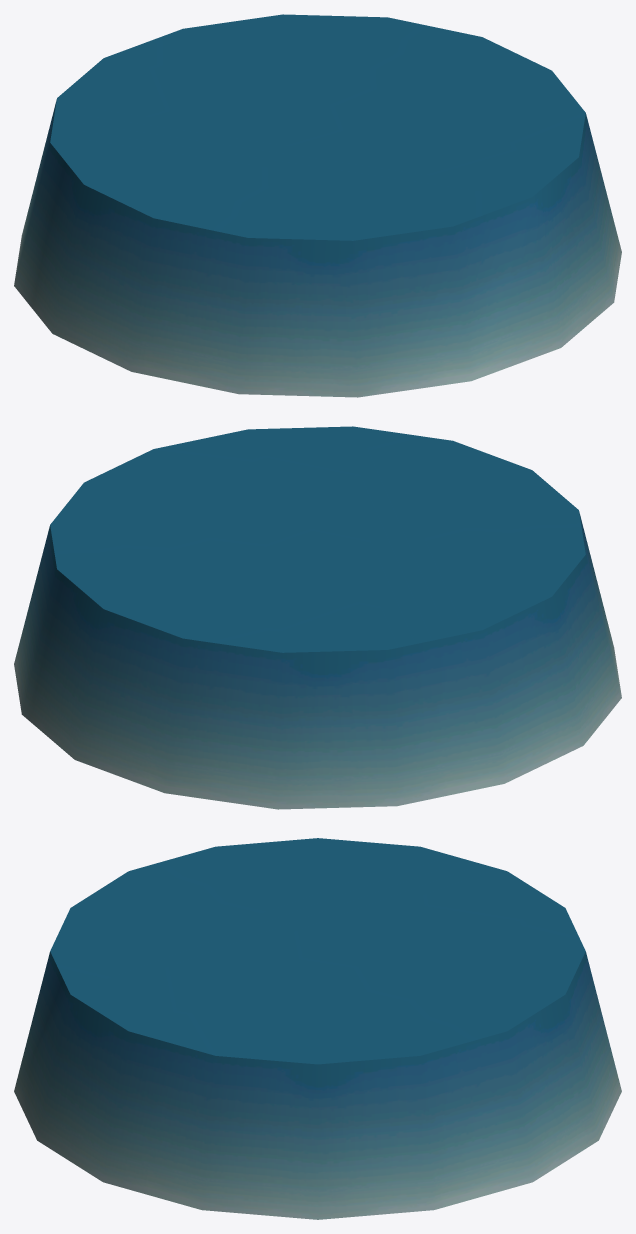
File: Sky.obj
3 renders of one model, top to bottom at view 1: azimuth 30°, elevation 25°; view 2: azimuth 150°, elevation 25°; view 3: azimuth 270°, elevation 25°, orthographic.
Size of the model in its own units: 30000 by 7631 by 30000.
3 materials, 3 textured.
